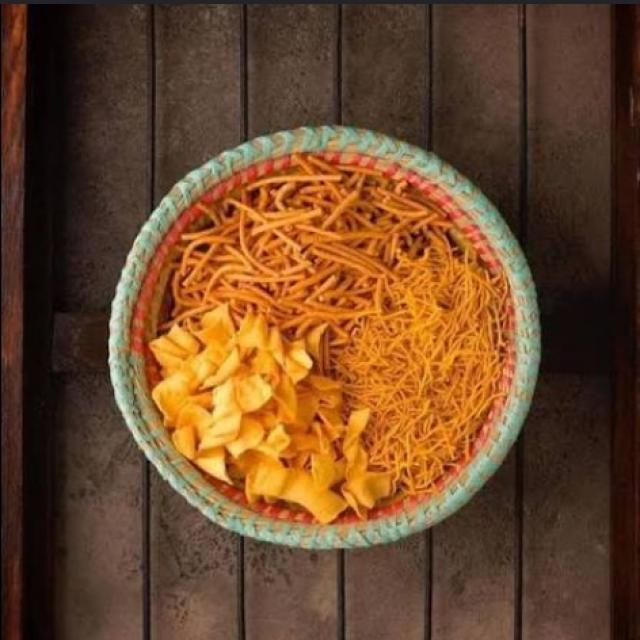Mattai: (134, 139, 504, 522)
